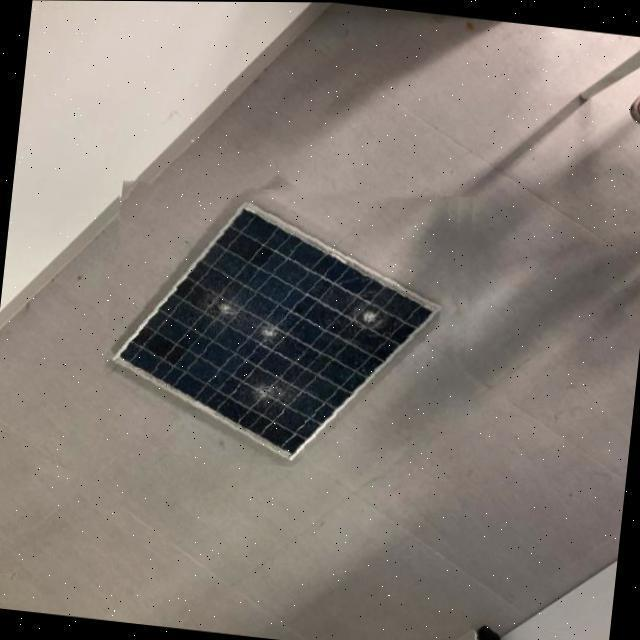Anomaly Solar Panel: (107, 198, 442, 459)
Structural Damage: (184, 290, 293, 358), (215, 367, 295, 417), (336, 286, 398, 337)
